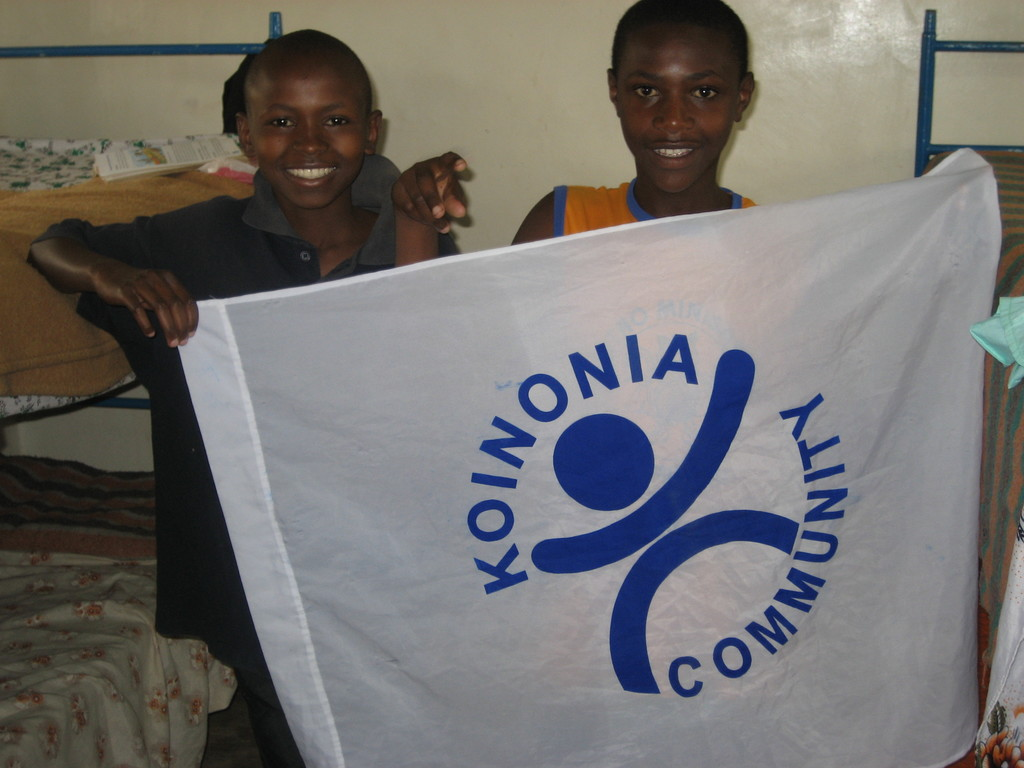Human-face: (614, 28, 737, 188), (255, 65, 365, 209)
